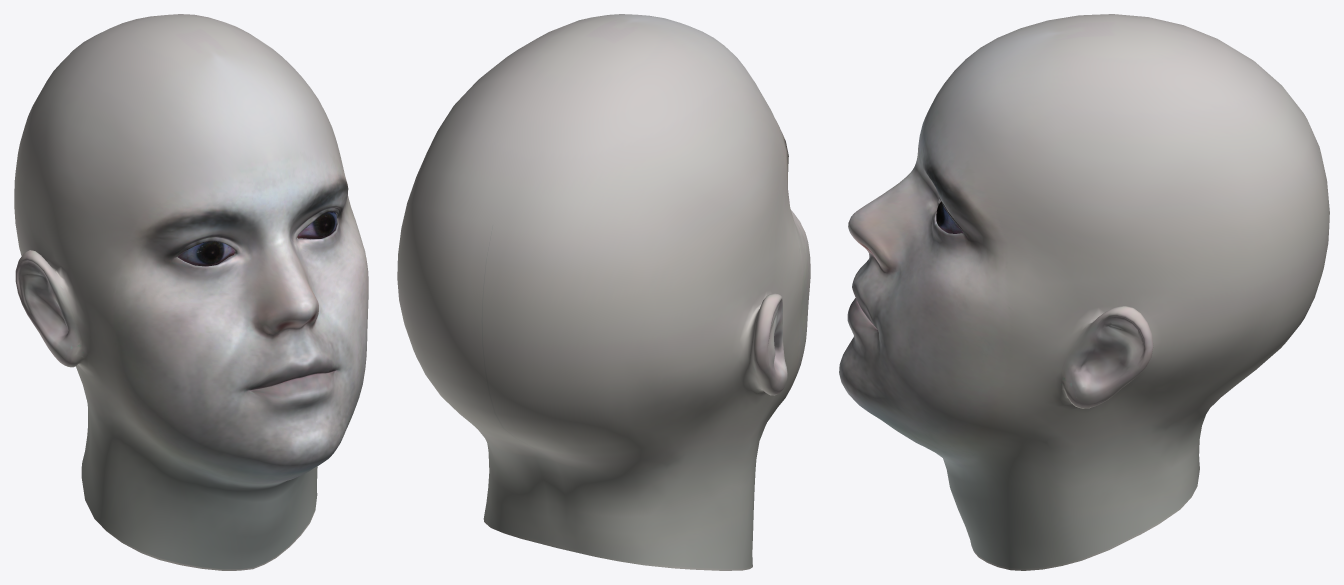
3 renders of one model, left to right at view 1: azimuth 30°, elevation 25°; view 2: azimuth 150°, elevation 25°; view 3: azimuth 270°, elevation 25°, orthographic. The views are drawn at different scales.
Parts seen in each view (by area): view 1: skin_hi, eyeR_hi, eyeL_hi; view 2: skin_hi; view 3: skin_hi.
Part boxes in pixels (box(x1,y1,x2,y2)): skin_hi: box(14, 14, 368, 570); eyeR_hi: box(177, 241, 234, 266); eyeL_hi: box(297, 211, 336, 239); skin_hi: box(397, 14, 810, 570); skin_hi: box(839, 14, 1329, 570).
Bounding box in the file's own units: 192 × 281 × 240.
